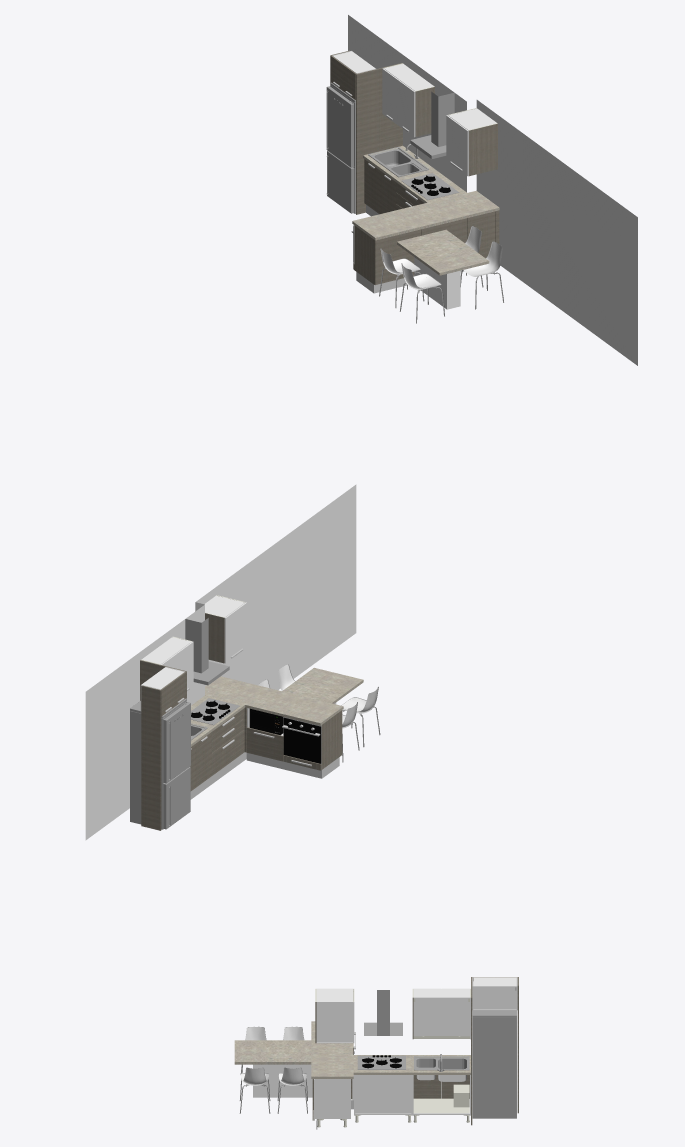
File: kitchen.glb
3 renders of one model, top to bottom at view 1: azimuth 30°, elevation 25°; view 2: azimuth 150°, elevation 25°; view 3: azimuth 270°, elevation 25°, orthographic. The views are drawn at different scales.
Parts seen in each view (by area): view 1: Mesh2, Mesh1, Mesh53, Mesh345; view 2: Mesh2, Mesh1, Mesh53, Mesh345, Mesh304, Mesh340; view 3: Mesh2, Mesh53, Mesh345, Mesh1, Mesh39, Mesh304.
Boxes of the visible parts, x1,y1,x2,y2 form: Mesh2: [333, 15, 637, 365]; Mesh1: [330, 50, 499, 284]; Mesh53: [326, 82, 503, 323]; Mesh345: [352, 145, 499, 275]; Mesh2: [85, 484, 378, 840]; Mesh1: [140, 611, 342, 830]; Mesh53: [130, 618, 380, 829]; Mesh345: [191, 667, 363, 746]; Mesh304: [191, 700, 321, 763]; Mesh340: [190, 752, 339, 799]; Mesh2: [241, 977, 517, 1120]; Mesh53: [239, 990, 516, 1118]; Mesh345: [234, 1021, 470, 1078]; Mesh1: [312, 977, 518, 1125]; Mesh39: [315, 989, 470, 1127]; Mesh304: [353, 1048, 401, 1068].
Bounding box in the file's own units: 47.87 × 23 × 101.
13 materials, 3 textured.
